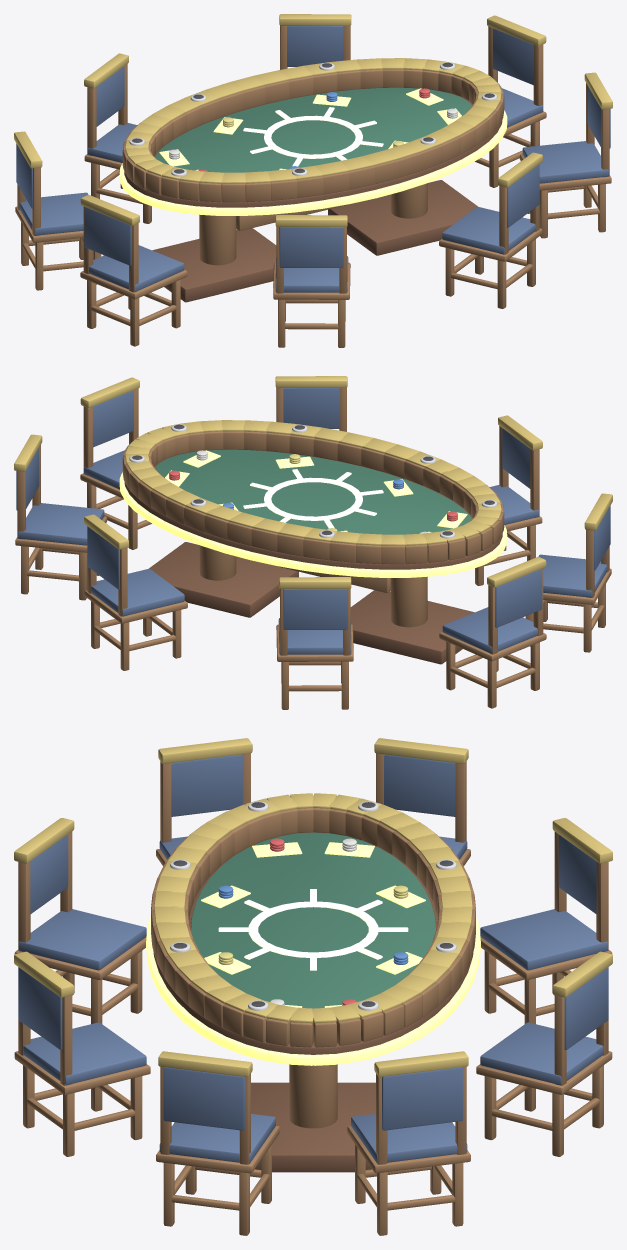
File: th14_pokertisch.glb
The picture shows the model from 3 angles, top to bottom: view 1: azimuth 30°, elevation 25°; view 2: azimuth 150°, elevation 25°; view 3: azimuth 270°, elevation 25°; orthographic projection. The views are drawn at different scales.
Parts seen in each view (by area): view 1: PkFilz, Cube.001, Cube, Cube.259, Cube.284, PkPlatte, Cube.270, Cube.203, Cube.242, Cube.245, Cube.228, Cylinder (+44 smaller); view 2: PkFilz, Cube.001, Cube, Cube.217, Cube.186, PkPlatte, Cube.200, Cube.273, Cube.228, Cube.231, Cube.242, Cylinder (+44 smaller); view 3: PkFilz, Cube.001, Cube.214, Cube.256, Cube.189, Cube.287, Cube.200, Cube.270, Cube.231, Cube.245, Cube.186, Cube.284 (+38 smaller).
Boxes of the visible parts, x1,y1,x2,y2 form: PkFilz: [155, 87, 471, 172]; Cube.001: [328, 180, 477, 255]; Cube: [152, 228, 276, 302]; Cube.259: [279, 227, 343, 267]; Cube.284: [522, 141, 608, 183]; PkPlatte: [124, 90, 502, 207]; Cube.270: [442, 207, 535, 254]; Cube.203: [287, 26, 343, 66]; Cube.242: [89, 245, 184, 291]; Cube.245: [84, 207, 131, 265]; Cube.228: [19, 192, 88, 235]; Cylinder: [199, 214, 236, 265]; PkFilz: [155, 449, 471, 534]; Cube.001: [149, 542, 298, 617]; Cube: [350, 590, 474, 664]; Cube.217: [283, 589, 347, 629]; Cube.186: [18, 503, 104, 545]; PkPlatte: [124, 452, 502, 569]; Cube.200: [91, 569, 184, 616]; Cube.273: [283, 388, 339, 428]; Cube.228: [442, 607, 537, 653]; Cube.231: [495, 569, 542, 627]; Cube.242: [538, 554, 607, 597]; Cylinder: [390, 576, 427, 627]; PkFilz: [190, 832, 436, 1008]; Cube.001: [251, 1082, 375, 1172]; Cube.214: [480, 909, 608, 970]; Cube.256: [18, 909, 146, 970]; Cube.189: [382, 1067, 463, 1130]; Cube.287: [163, 1067, 244, 1130]; Cube.200: [480, 1022, 603, 1084]; Cube.270: [23, 1022, 146, 1084]; Cube.231: [384, 754, 455, 816]; Cube.245: [171, 754, 242, 816]; Cube.186: [351, 1114, 467, 1163]; Cube.284: [159, 1114, 275, 1163].
Bounding box in the file's own units: 3.88 × 0.946 × 2.97.
